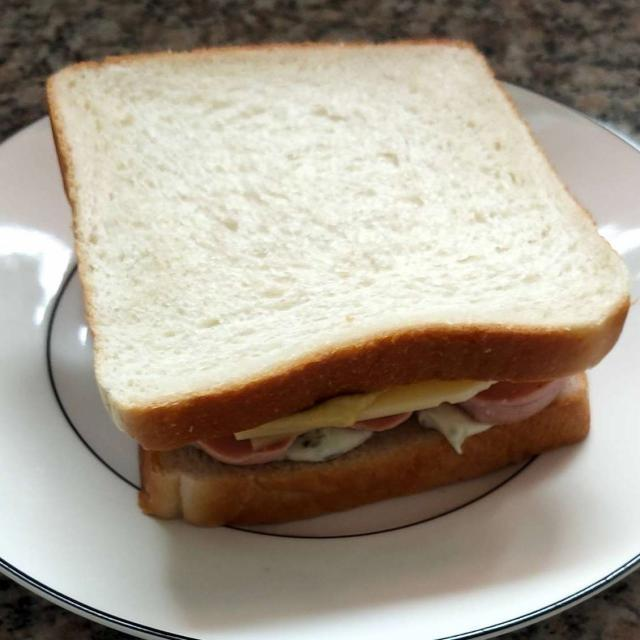bread: (59, 61, 622, 502)
cheese: (238, 378, 484, 440)
